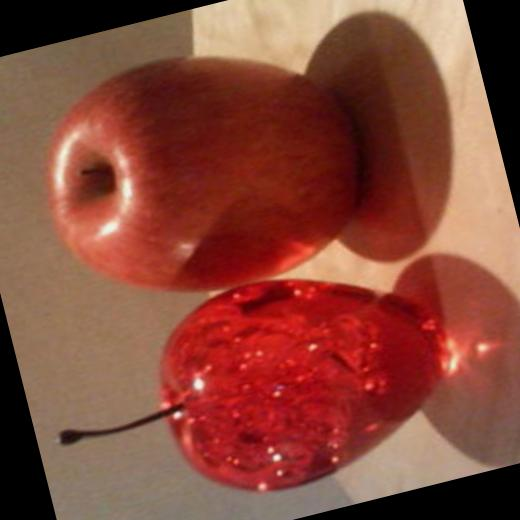Apple: (30, 241, 473, 520), (26, 25, 396, 330)
